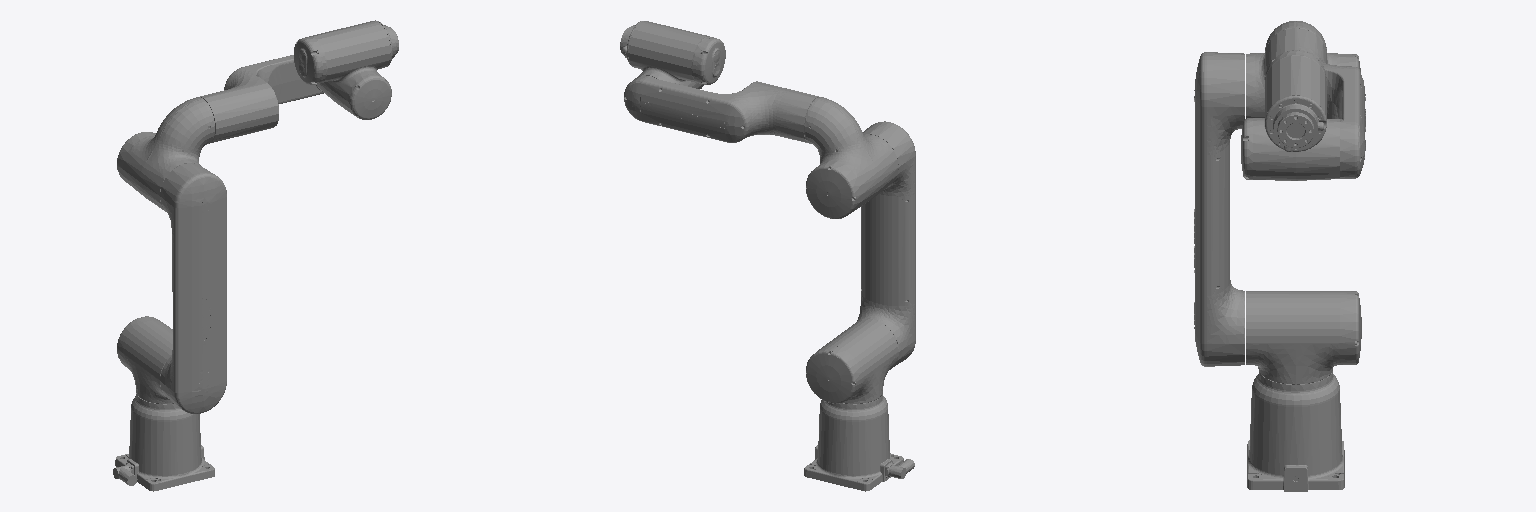
URDF robot description (abb_crb15000_5_95):
<?xml version="1.0" ?>
<!-- =================================================================================== -->
<!-- |    This document was autogenerated by xacro from crb15000_5_95.xacro          | -->
<!-- |    EDITING THIS FILE BY HAND IS NOT RECOMMENDED                                 | -->
<!-- =================================================================================== -->
<robot name="abb_crb15000_5_95">
  <link name="base_link">
    <visual>
      <origin rpy="0.0 0.0 0.0" xyz="0.0 0.0 0.0"/>
      <geometry>
        <mesh filename="meshes/crb15000_5_95/visual/base_link.dae"/>
      </geometry>
      <material name="light_grey">
        <color rgba="0.6 0.6 0.6 1.0"/>
      </material>
    </visual>
    <collision>
      <origin rpy="0.0 0.0 0.0" xyz="0.0 0.0 0.0"/>
      <geometry>
        <mesh filename="meshes/crb15000_5_95/collision/base_link.dae"/>
      </geometry>
    </collision>
    <inertial>
      <origin rpy="0.0 0.0 0.0" xyz="0.0 0.0 0.0"/>
      <mass value="3.5"/>
      <inertia ixx="0.015" ixy="0.0" ixz="0.0" iyy="0.016" iyz="0.0" izz="0.01"/>
    </inertial>
  </link>
  <link name="link_1">
    <visual>
      <origin rpy="0.0 0.0 0.0" xyz="0.0 0.0 0.0"/>
      <geometry>
        <mesh filename="meshes/crb15000_5_95/visual/link_1.dae"/>
      </geometry>
      <material name="light_grey">
        <color rgba="0.6 0.6 0.6 1.0"/>
      </material>
    </visual>
    <collision>
      <origin rpy="0.0 0.0 0.0" xyz="0.0 0.0 0.0"/>
      <geometry>
        <mesh filename="meshes/crb15000_5_95/collision/link_1.dae"/>
      </geometry>
    </collision>
    <inertial>
      <origin rpy="0.0 0.0 0.0" xyz="0.0 0.0 0.0"/>
      <mass value="2.8"/>
      <inertia ixx="0.01" ixy="0.0" ixz="0.0" iyy="0.006" iyz="0.0" izz="0.01"/>
    </inertial>
  </link>
  <link name="link_2">
    <visual>
      <origin rpy="0.0 0.0 0.0" xyz="0.0 0.0 0.0"/>
      <geometry>
        <mesh filename="meshes/crb15000_5_95/visual/link_2.dae"/>
      </geometry>
      <material name="light_grey">
        <color rgba="0.6 0.6 0.6 1.0"/>
      </material>
    </visual>
    <collision>
      <origin rpy="0.0 0.0 0.0" xyz="0.0 0.0 0.0"/>
      <geometry>
        <mesh filename="meshes/crb15000_5_95/collision/link_2.dae"/>
      </geometry>
    </collision>
    <inertial>
      <origin rpy="0.0 0.0 0.0" xyz="0.0 0.0 0.0"/>
      <mass value="4.29"/>
      <inertia ixx="0.13" ixy="0.0" ixz="0.0" iyy="0.13" iyz="0.0" izz="0.006"/>
    </inertial>
  </link>
  <link name="link_3">
    <visual>
      <origin rpy="0.0 0.0 0.0" xyz="0.0 0.0 0.0"/>
      <geometry>
        <mesh filename="meshes/crb15000_5_95/visual/link_3.dae"/>
      </geometry>
      <material name="light_grey">
        <color rgba="0.6 0.6 0.6 1.0"/>
      </material>
    </visual>
    <collision>
      <origin rpy="0.0 0.0 0.0" xyz="0.0 0.0 0.0"/>
      <geometry>
        <mesh filename="meshes/crb15000_5_95/collision/link_3.dae"/>
      </geometry>
    </collision>
    <inertial>
      <origin rpy="0.0 0.0 0.0" xyz="0.0 0.0 0.0"/>
      <mass value="3.4"/>
      <inertia ixx="0.017" ixy="0.0" ixz="0.0" iyy="0.014" iyz="0.0" izz="0.013"/>
    </inertial>
  </link>
  <link name="link_4">
    <visual>
      <origin rpy="0.0 0.0 0.0" xyz="0.0 0.0 0.0"/>
      <geometry>
        <mesh filename="meshes/crb15000_5_95/visual/link_4.dae"/>
      </geometry>
      <material name="light_grey">
        <color rgba="0.6 0.6 0.6 1.0"/>
      </material>
    </visual>
    <collision>
      <origin rpy="0.0 0.0 0.0" xyz="0.0 0.0 0.0"/>
      <geometry>
        <mesh filename="meshes/crb15000_5_95/collision/link_4.dae"/>
      </geometry>
    </collision>
    <inertial>
      <origin rpy="0.0 0.0 0.0" xyz="0.0 0.0 0.0"/>
      <mass value="2.8"/>
      <inertia ixx="0.009" ixy="-0.01" ixz="0.0" iyy="0.034" iyz="0.0" izz="0.038"/>
    </inertial>
  </link>
  <link name="link_5">
    <visual>
      <origin rpy="0.0 0.0 0.0" xyz="0.0 0.0 0.0"/>
      <geometry>
        <mesh filename="meshes/crb15000_5_95/visual/link_5.dae"/>
      </geometry>
      <material name="light_grey">
        <color rgba="0.6 0.6 0.6 1.0"/>
      </material>
    </visual>
    <collision>
      <origin rpy="0.0 0.0 0.0" xyz="0.0 0.0 0.0"/>
      <geometry>
        <mesh filename="meshes/crb15000_5_95/collision/link_5.dae"/>
      </geometry>
    </collision>
    <inertial>
      <origin rpy="0.0 0.0 0.0" xyz="0.0 0.0 0.0"/>
      <mass value="3.0"/>
      <inertia ixx="0.011" ixy="0.0" ixz="0.0" iyy="0.013" iyz="0.0" izz="0.01"/>
    </inertial>
  </link>
  <link name="link_6">
    <visual>
      <origin rpy="0.0 0.0 0.0" xyz="0.0 0.0 0.0"/>
      <geometry>
        <mesh filename="meshes/crb15000_5_95/visual/link_6.dae"/>
      </geometry>
      <material name="light_grey">
        <color rgba="0.6 0.6 0.6 1.0"/>
      </material>
    </visual>
    <collision>
      <origin rpy="0.0 0.0 0.0" xyz="0.0 0.0 0.0"/>
      <geometry>
        <mesh filename="meshes/crb15000_5_95/collision/link_6.dae"/>
      </geometry>
    </collision>
    <inertial>
      <origin rpy="0.0 0.0 0.0" xyz="0.0 0.0 0.0"/>
      <mass value="0.15"/>
      <inertia ixx="0.0001" ixy="0.0" ixz="0.0" iyy="1e-06" iyz="0.0" izz="1e-06"/>
    </inertial>
  </link>
  <link name="flange">
    <inertial>
      <mass value="0.01"/>
      <inertia ixx="1.66666667e-05" ixy="0.0" ixz="0.0" iyy="1.66666667e-05" iyz="0.0" izz="1.66666667e-05"/>
    </inertial>
  </link>
  <link name="tool0">
    <inertial>
      <mass value="0.01"/>
      <inertia ixx="1.66666667e-05" ixy="0.0" ixz="0.0" iyy="1.66666667e-05" iyz="0.0" izz="1.66666667e-05"/>
    </inertial>
  </link>
  <joint name="joint_1" type="revolute">
    <parent link="base_link"/>
    <child link="link_1"/>
    <origin rpy="0.0 0.0 0.0" xyz="0.0 0.0 0.0"/>
    <axis xyz="0.0 0.0 1.0"/>
    <limit effort="0.0" lower="-3.141592653589793" upper="3.141592653589793" velocity="0.0"/>
    <dynamics damping="0.0" friction="0.0"/>
  </joint>
  <joint name="joint_2" type="revolute">
    <parent link="link_1"/>
    <child link="link_2"/>
    <origin rpy="0.0 0.0 0.0" xyz="0.0 -0.086 0.265"/>
    <axis xyz="0.0 1.0 0.0"/>
    <limit effort="0.0" lower="-3.141592653589793" upper="3.141592653589793" velocity="0.0"/>
    <dynamics damping="0.0" friction="0.0"/>
  </joint>
  <joint name="joint_3" type="revolute">
    <parent link="link_2"/>
    <child link="link_3"/>
    <origin rpy="0.0 0.0 0.0" xyz="0.0 0.001 0.444"/>
    <axis xyz="0.0 1.0 0.0"/>
    <limit effort="0.0" lower="-3.9269908169872414" upper="1.4835298641951802" velocity="0.0"/>
    <dynamics damping="0.0" friction="0.0"/>
  </joint>
  <joint name="joint_4" type="revolute">
    <parent link="link_3"/>
    <child link="link_4"/>
    <origin rpy="0.0 0.0 0.0" xyz="0.097 0.085 0.11"/>
    <axis xyz="1.0 0.0 0.0"/>
    <limit effort="0.0" lower="-3.141592653589793" upper="3.141592653589793" velocity="0.0"/>
    <dynamics damping="0.0" friction="0.0"/>
  </joint>
  <joint name="joint_5" type="revolute">
    <parent link="link_4"/>
    <child link="link_5"/>
    <origin rpy="0.0 0.0 0.0" xyz="0.373 0.0745 0.0"/>
    <axis xyz="0.0 1.0 0.0"/>
    <limit effort="0.0" lower="-3.141592653589793" upper="3.141592653589793" velocity="0.0"/>
    <dynamics damping="0.0" friction="0.0"/>
  </joint>
  <joint name="joint_6" type="revolute">
    <parent link="link_5"/>
    <child link="link_6"/>
    <origin rpy="0.0 0.0 0.0" xyz="0.0684 -0.0745 0.08"/>
    <axis xyz="1.0 0.0 0.0"/>
    <limit effort="0.0" lower="-4.71238898038469" upper="4.71238898038469" velocity="0.0"/>
    <dynamics damping="0.0" friction="0.0"/>
  </joint>
  <joint name="joint_6_flange" type="fixed">
    <parent link="link_6"/>
    <child link="flange"/>
    <origin rpy="0.0 0.0 0.0" xyz="0.0326 0.0 -0.0001"/>
  </joint>
  <joint name="flange_tool0" type="fixed">
    <parent link="flange"/>
    <child link="tool0"/>
    <origin rpy="0.0 1.5707963267948966 0.0" xyz="0.0 0.0 0.0"/>
  </joint>
  <transmission name="transmission_1">
    <type>transmission_interface/SimpleTransmission</type>
    <joint name="joint_1">
      <hardwareInterface>hardware_interface/PositionJointInterface</hardwareInterface>
    </joint>
    <actuator name="joint_1_motor">
      <mechanicalReduction>1.0</mechanicalReduction>
    </actuator>
  </transmission>
  <transmission name="transmission_2">
    <type>transmission_interface/SimpleTransmission</type>
    <joint name="joint_2">
      <hardwareInterface>hardware_interface/PositionJointInterface</hardwareInterface>
    </joint>
    <actuator name="joint_2_motor">
      <mechanicalReduction>1.0</mechanicalReduction>
    </actuator>
  </transmission>
  <transmission name="transmission_3">
    <type>transmission_interface/SimpleTransmission</type>
    <joint name="joint_3">
      <hardwareInterface>hardware_interface/PositionJointInterface</hardwareInterface>
    </joint>
    <actuator name="joint_3_motor">
      <mechanicalReduction>1.0</mechanicalReduction>
    </actuator>
  </transmission>
  <transmission name="transmission_4">
    <type>transmission_interface/SimpleTransmission</type>
    <joint name="joint_4">
      <hardwareInterface>hardware_interface/PositionJointInterface</hardwareInterface>
    </joint>
    <actuator name="joint_4_motor">
      <mechanicalReduction>1.0</mechanicalReduction>
    </actuator>
  </transmission>
  <transmission name="transmission_5">
    <type>transmission_interface/SimpleTransmission</type>
    <joint name="joint_5">
      <hardwareInterface>hardware_interface/PositionJointInterface</hardwareInterface>
    </joint>
    <actuator name="joint_5_motor">
      <mechanicalReduction>1.0</mechanicalReduction>
    </actuator>
  </transmission>
  <transmission name="transmission_6">
    <type>transmission_interface/SimpleTransmission</type>
    <joint name="joint_6">
      <hardwareInterface>hardware_interface/PositionJointInterface</hardwareInterface>
    </joint>
    <actuator name="joint_6_motor">
      <mechanicalReduction>1.0</mechanicalReduction>
    </actuator>
  </transmission>
  <gazebo reference="base_link">
    <turnGravityOff>True</turnGravityOff>
  </gazebo>
  <gazebo reference="link_1">
    <turnGravityOff>True</turnGravityOff>
  </gazebo>
  <gazebo reference="link_2">
    <turnGravityOff>True</turnGravityOff>
  </gazebo>
  <gazebo reference="link_3">
    <turnGravityOff>True</turnGravityOff>
  </gazebo>
  <gazebo reference="link_4">
    <turnGravityOff>True</turnGravityOff>
  </gazebo>
  <gazebo reference="link_5">
    <turnGravityOff>True</turnGravityOff>
  </gazebo>
  <gazebo reference="link_6">
    <turnGravityOff>True</turnGravityOff>
  </gazebo>
</robot>

--- Render facts (derived) ---
Views: 3 orthographic renders of the robot side by side, from view 1: azimuth 30°, elevation 25°; view 2: azimuth 150°, elevation 25°; view 3: azimuth 270°, elevation 25°.
Model abb_crb15000_5_95 with 9 links and 8 joints (6 revolute, 2 fixed), rooted at base_link, posed all joints at 0.
Visible links, largest first — view 1: link_2, link_5, base_link, link_3, link_4, link_1; view 2: link_2, link_4, link_3, base_link, link_1, link_5; view 3: link_2, base_link, link_1, link_5, link_4, link_6, link_3.
Boxes of the visible links, box(x1,y1,x2,y2) form: link_2: box(160, 163, 226, 413); link_5: box(294, 21, 391, 119); base_link: box(113, 393, 214, 491); link_3: box(117, 97, 214, 211); link_4: box(200, 55, 323, 143); link_1: box(117, 316, 173, 403); link_2: box(857, 121, 915, 366); link_4: box(624, 75, 818, 143); link_3: box(804, 97, 898, 218); base_link: box(804, 395, 914, 491); link_1: box(806, 319, 898, 403); link_5: box(628, 21, 725, 88); link_2: box(1194, 52, 1244, 366); base_link: box(1247, 371, 1344, 491); link_1: box(1246, 291, 1361, 384); link_5: box(1241, 50, 1339, 180); link_4: box(1265, 28, 1365, 178); link_6: box(1265, 95, 1326, 151); link_3: box(1246, 21, 1360, 118).
Size in the robot's own frame: 0.6955 by 0.2902 by 0.9517 metres.
7 mesh visuals loaded from 7 distinct referenced files (7 Collada DAE).